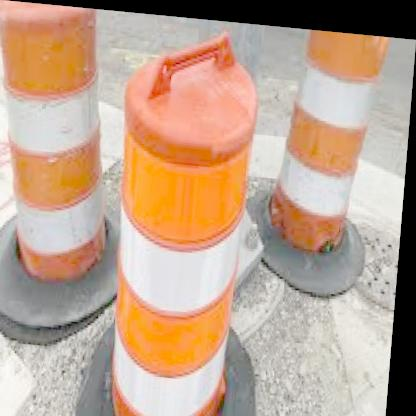obstacle: (102, 30, 257, 416)
